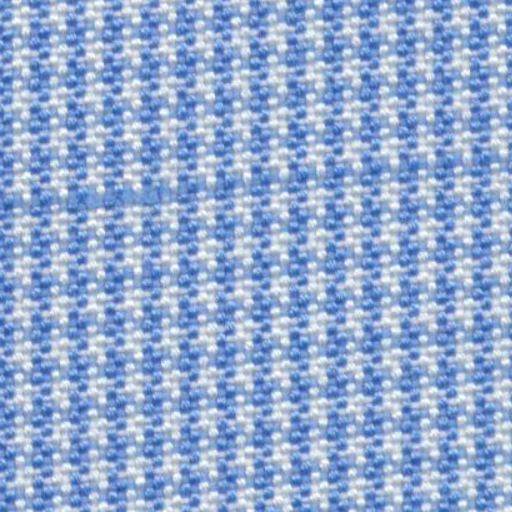TuoSha: (24, 138, 490, 222)
